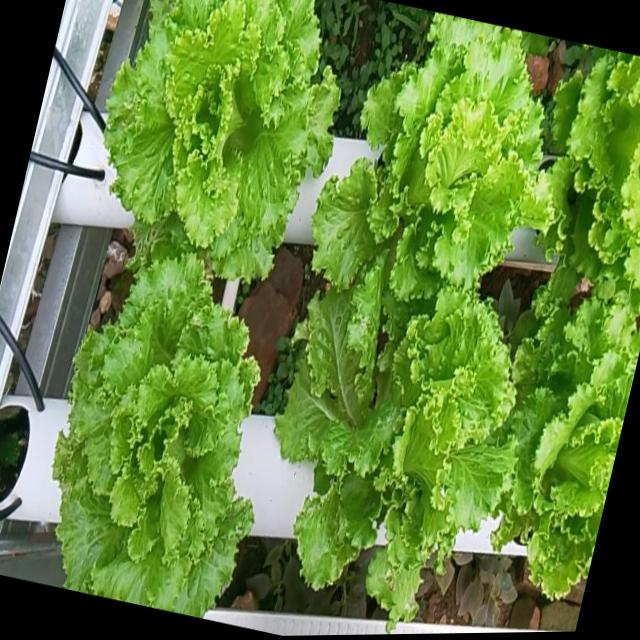Mature: (276, 298, 519, 631), (55, 250, 262, 619), (313, 16, 548, 332), (108, 0, 343, 288), (494, 310, 640, 611), (548, 50, 640, 323)
